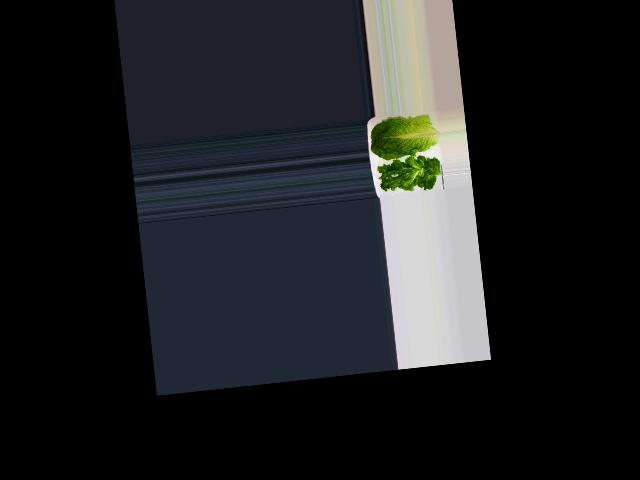lettuce: (376, 155, 440, 198)
